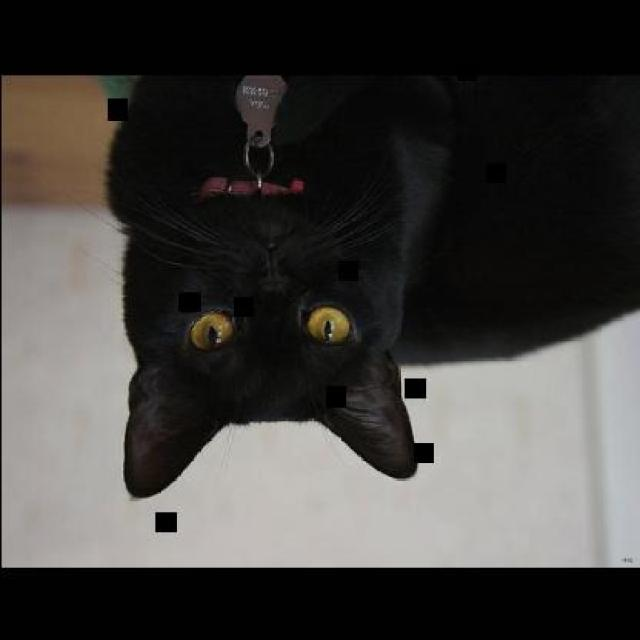unauthorized: (100, 71, 638, 498)
